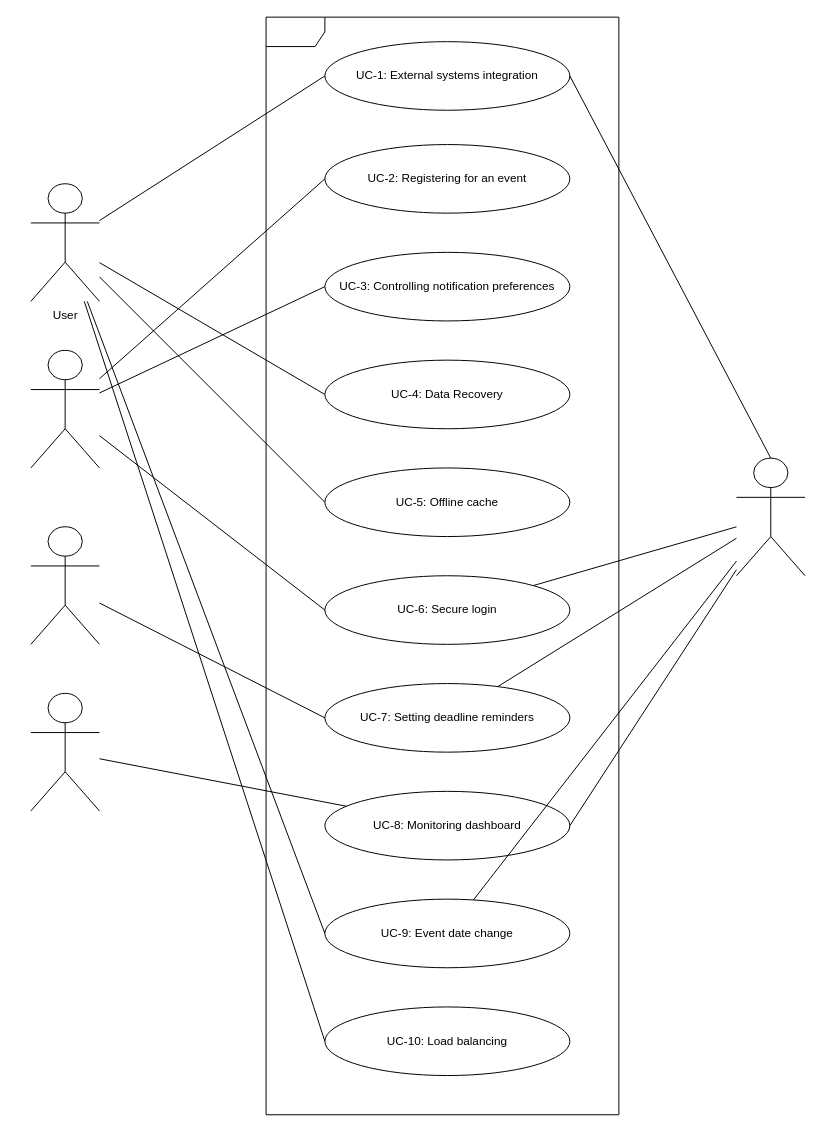
Some shapes in this 822 by 1132 pixel diagram are drawn without their labels. Here are the shapes that lost their labels. From the top down, the box of each, then its label:
(30, 349, 99, 468): Student
(735, 457, 805, 576): Database
(30, 526, 99, 644): Lectu rer
(265, 16, 619, 1115): AIDAP System
(30, 692, 99, 811): System Maintainer
